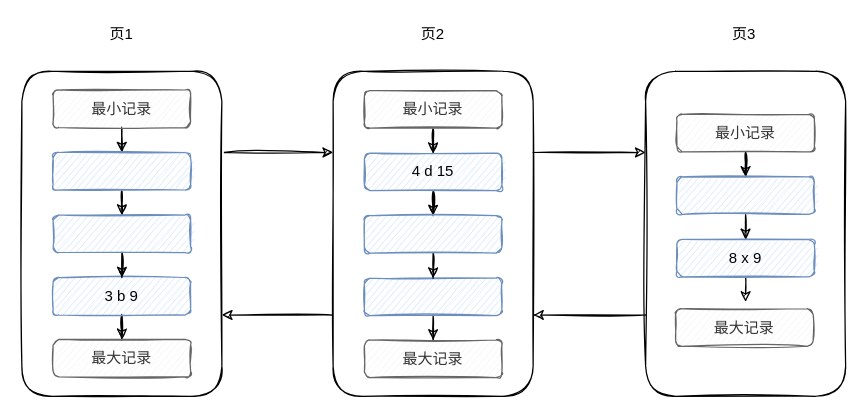
Some shapes in this 868 by 418 pixel diagram are drawn without their labels. Here are the shapes that lost their labels. From the top down, the box of each, then its label:
(52, 151, 191, 190): 1 a 10
(676, 176, 814, 214): 7 k 12
(52, 214, 191, 252): 2 c 12
(363, 214, 502, 253): 5 h 17
(363, 277, 502, 316): 6 l 13
